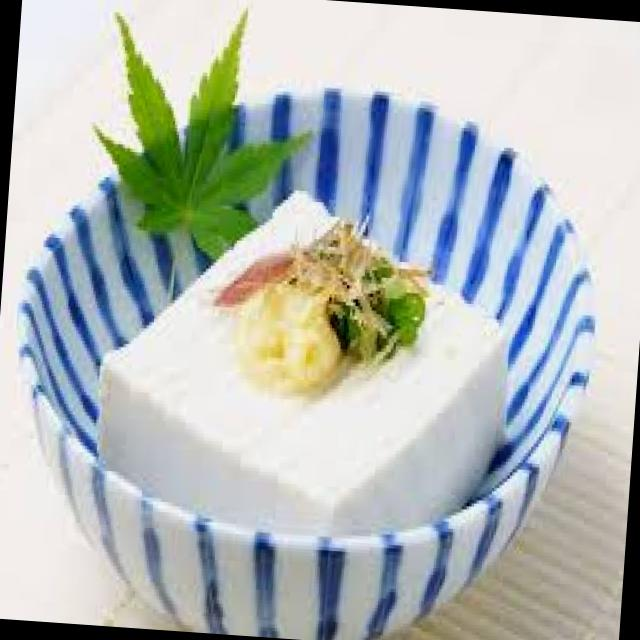tof: (56, 179, 554, 582)
